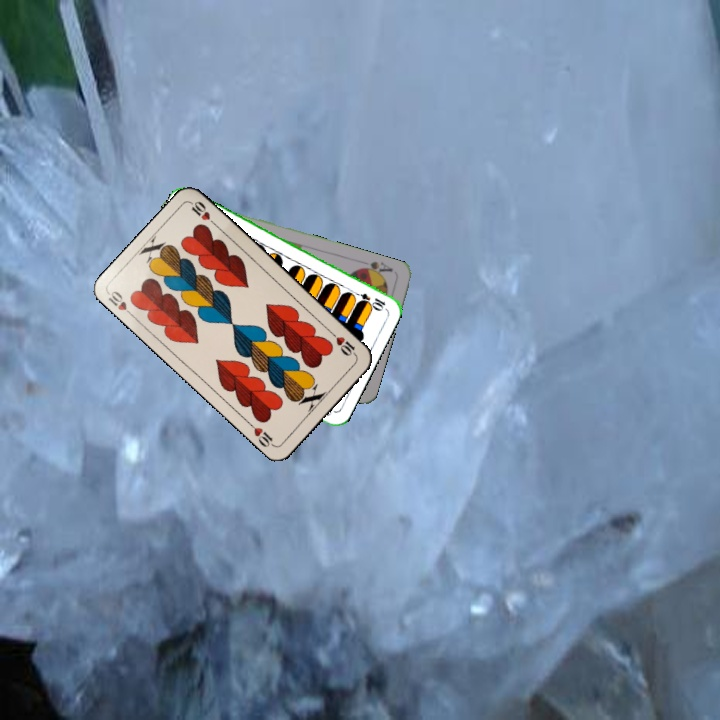E10: (348, 287, 388, 312)
H10: (104, 287, 137, 320), (326, 327, 359, 359)
SA: (355, 257, 395, 279)
